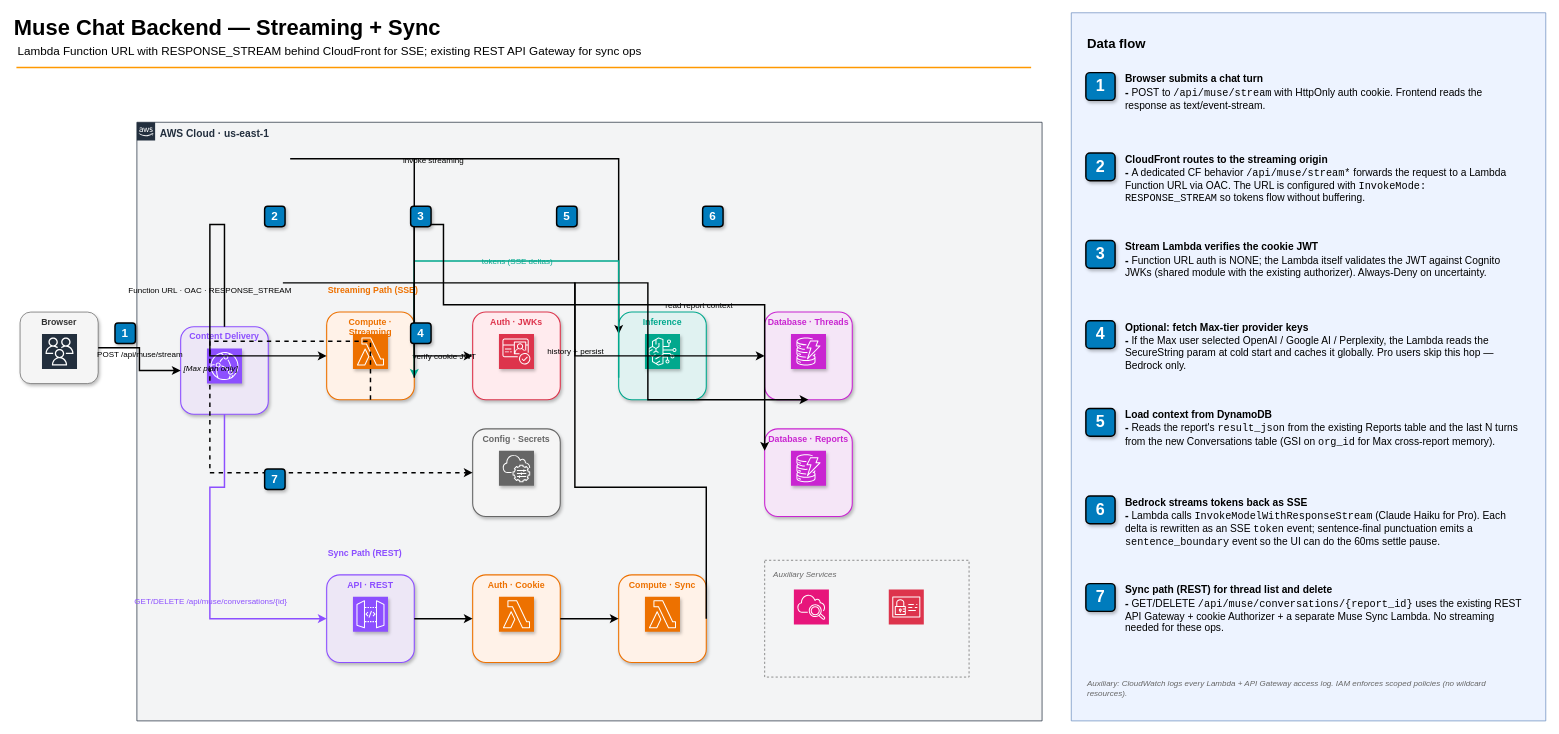
This 1559x734 diagram has some shape labels left out. The shapes that lost their labels are listed below. From the top down, each one's centre as x and y in pixels, then its label:
At point (224, 367): "CloudFront OAC + path routing".
At point (370, 352): "Muse Stream Fn Function URL · SSE".
At point (516, 352): "Cognito User Pool".
At point (662, 352): "Bedrock InvokeModelWithResponseStream".
At point (808, 352): "Conversations pk=REPORT# · GSI org#".
At point (516, 469): "Parameter Store SecureString · Max keys".
At point (808, 469): "Reports result_json context".
At point (370, 615): "API Gateway REST · existing".
At point (516, 615): "Authorizer cookie JWT · existing".
At point (662, 615): "Muse Sync Fn list · delete thread".
At point (811, 607): "CloudWatch".
At point (906, 607): "IAM".
